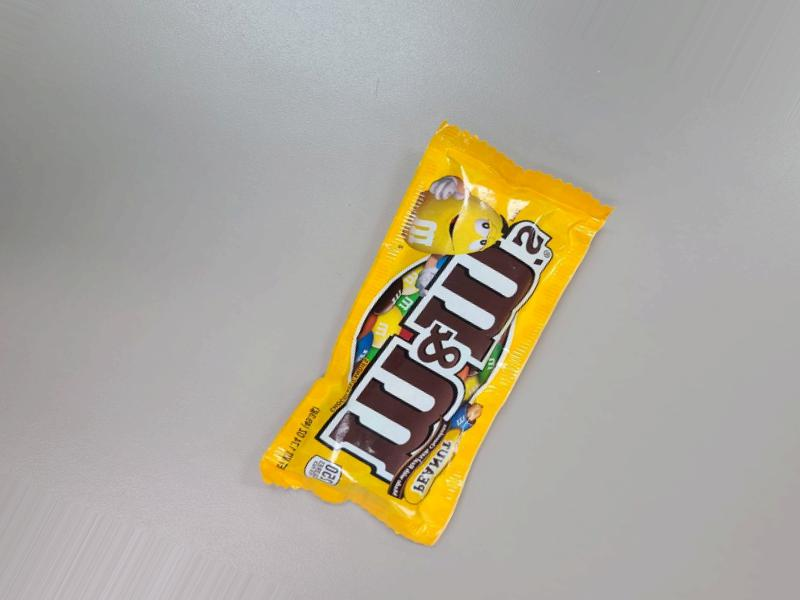m&m: (237, 87, 627, 563)
